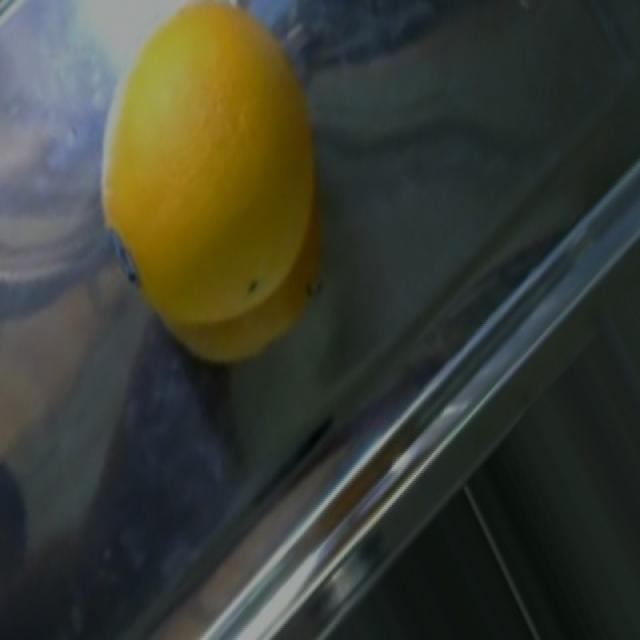Fruit: (83, 0, 341, 384)
